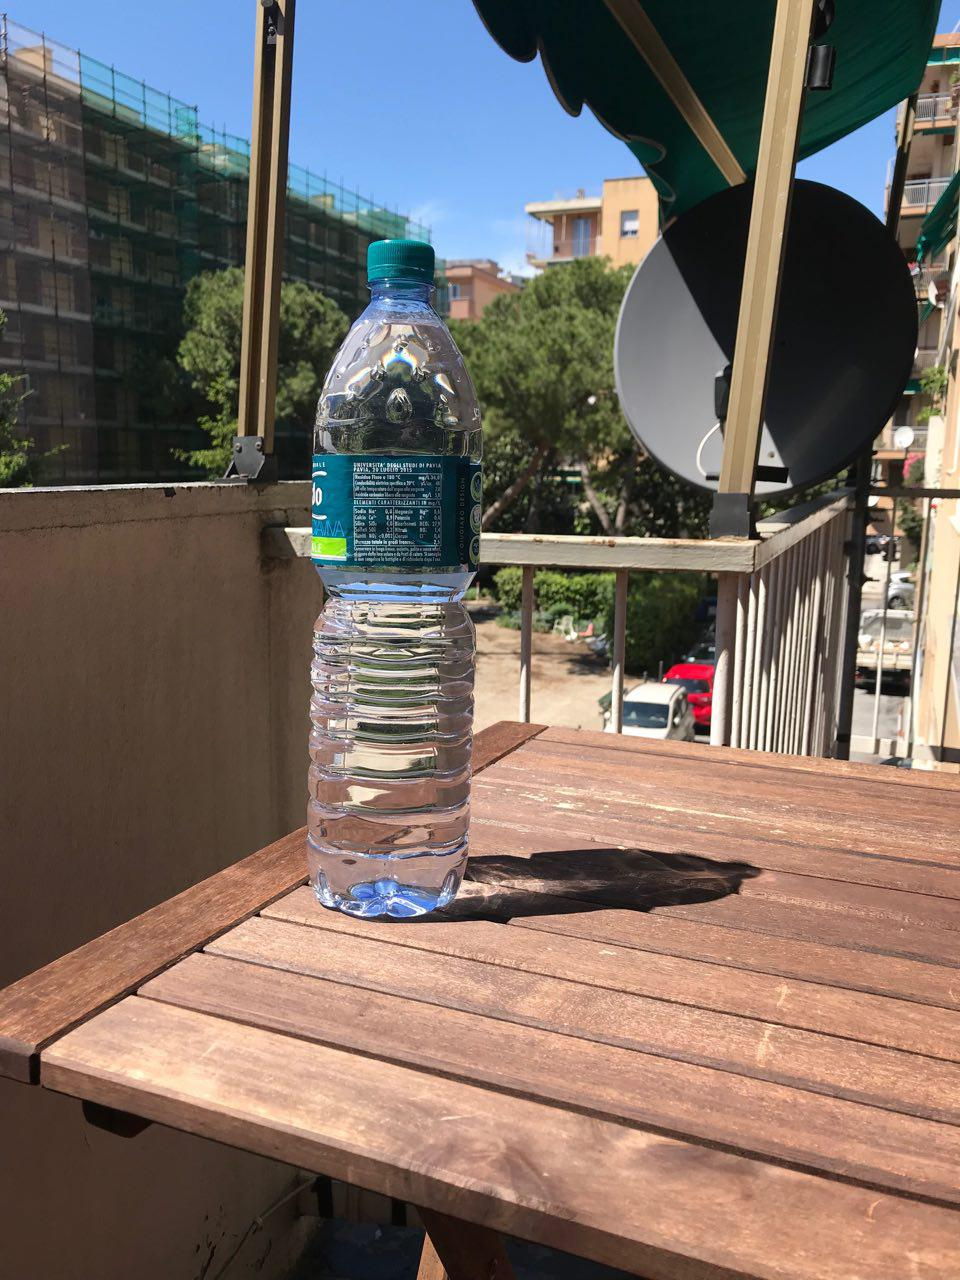san_bernardo: (304, 238, 484, 919)
